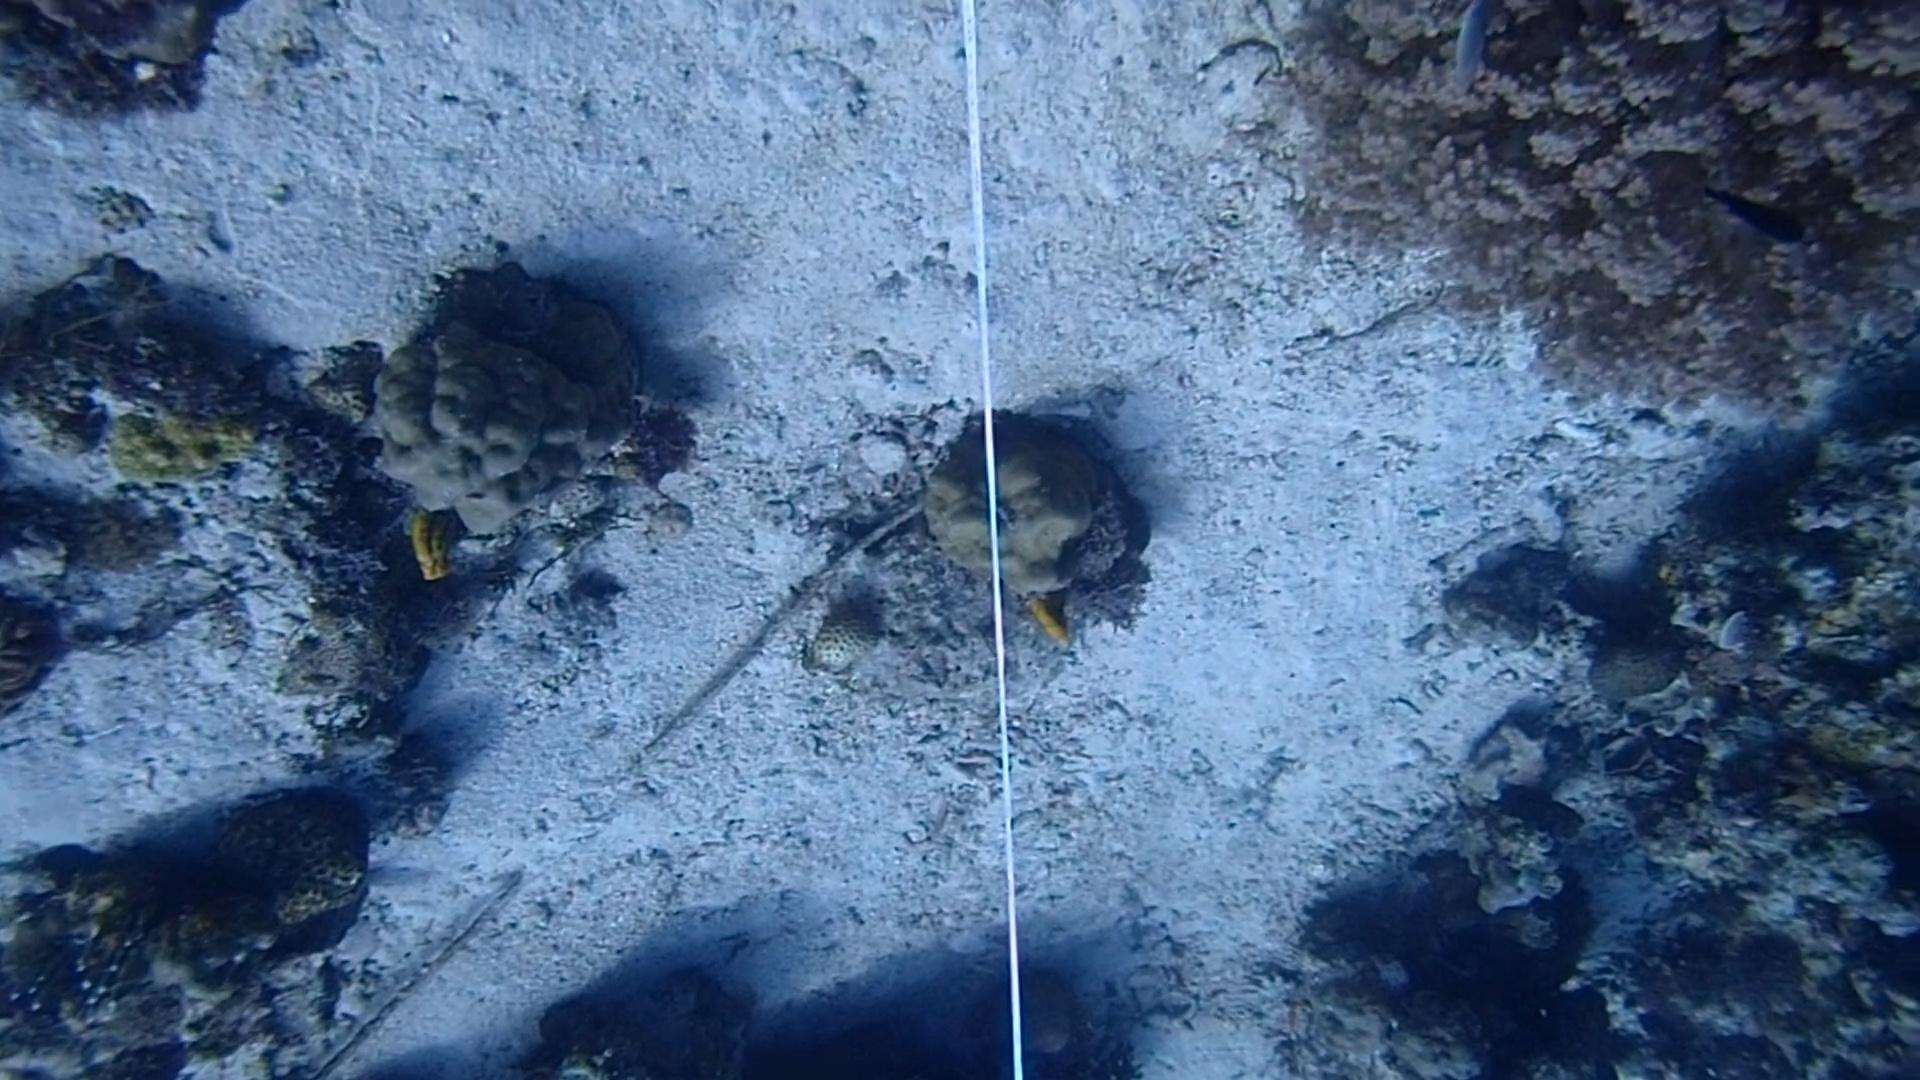Dark Fish: (1692, 171, 1822, 260)
Light Fish: (1439, 0, 1507, 92)
